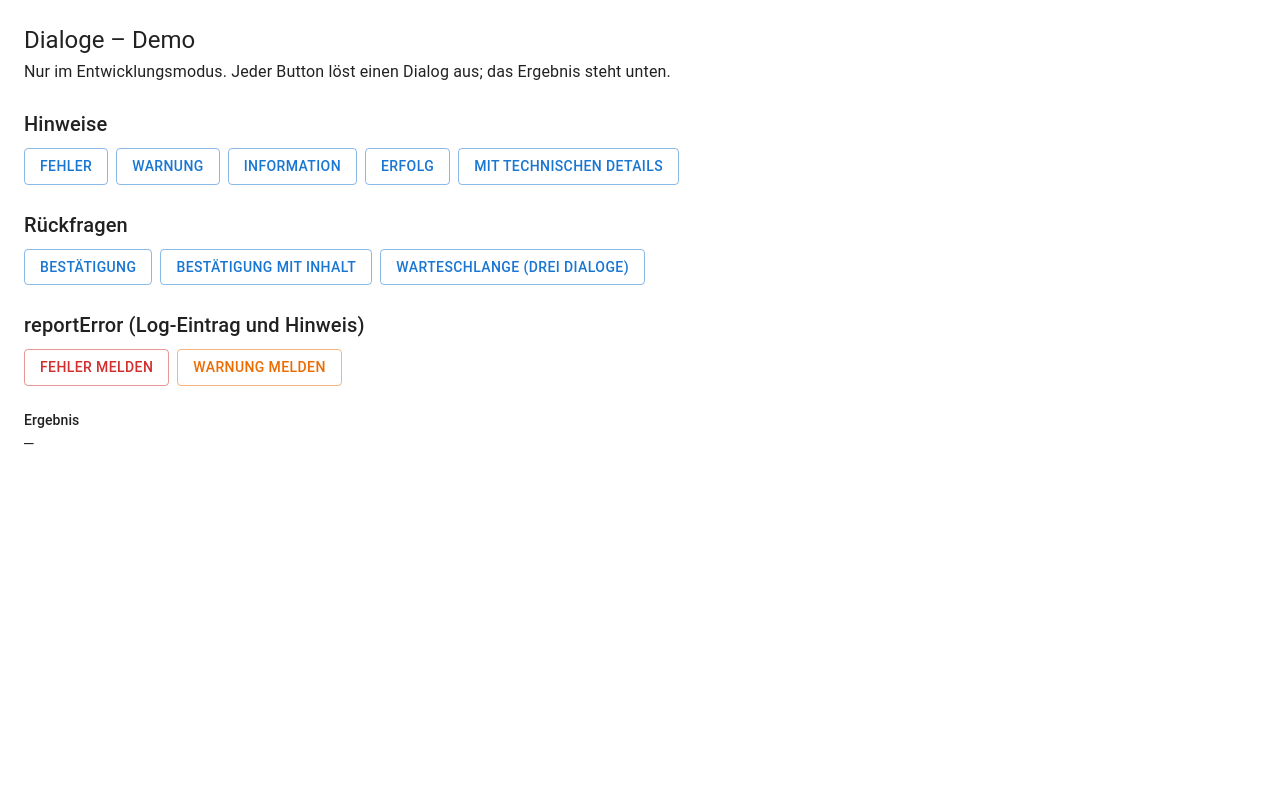
Test: DialogDemo › notes that the alert was closed
Step 1. Click the button with test id "app.dialog-demo-alert-info" → click(292, 166), box top-left (228, 148), bottom-right (357, 184)
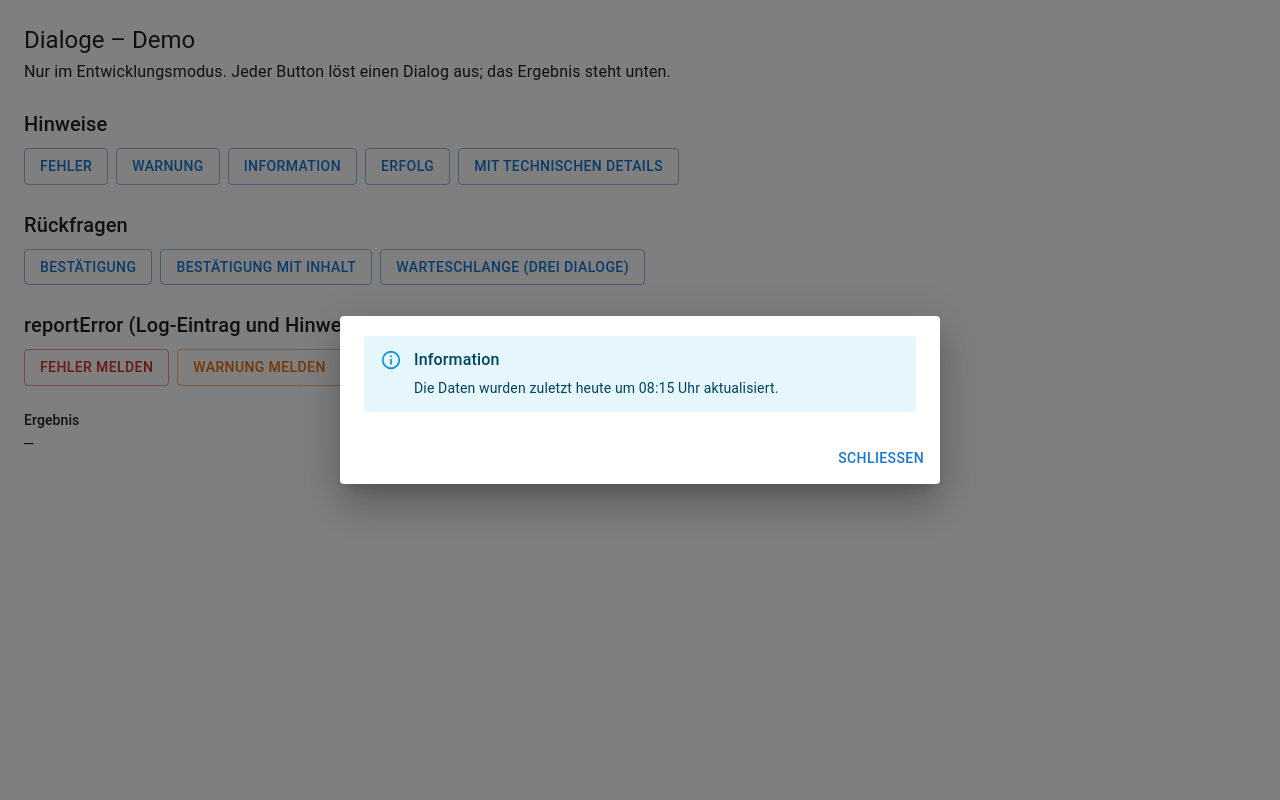
Step 2. Click the button with test id "core.modal-close" → click(881, 458), box top-left (830, 440), bottom-right (932, 476)
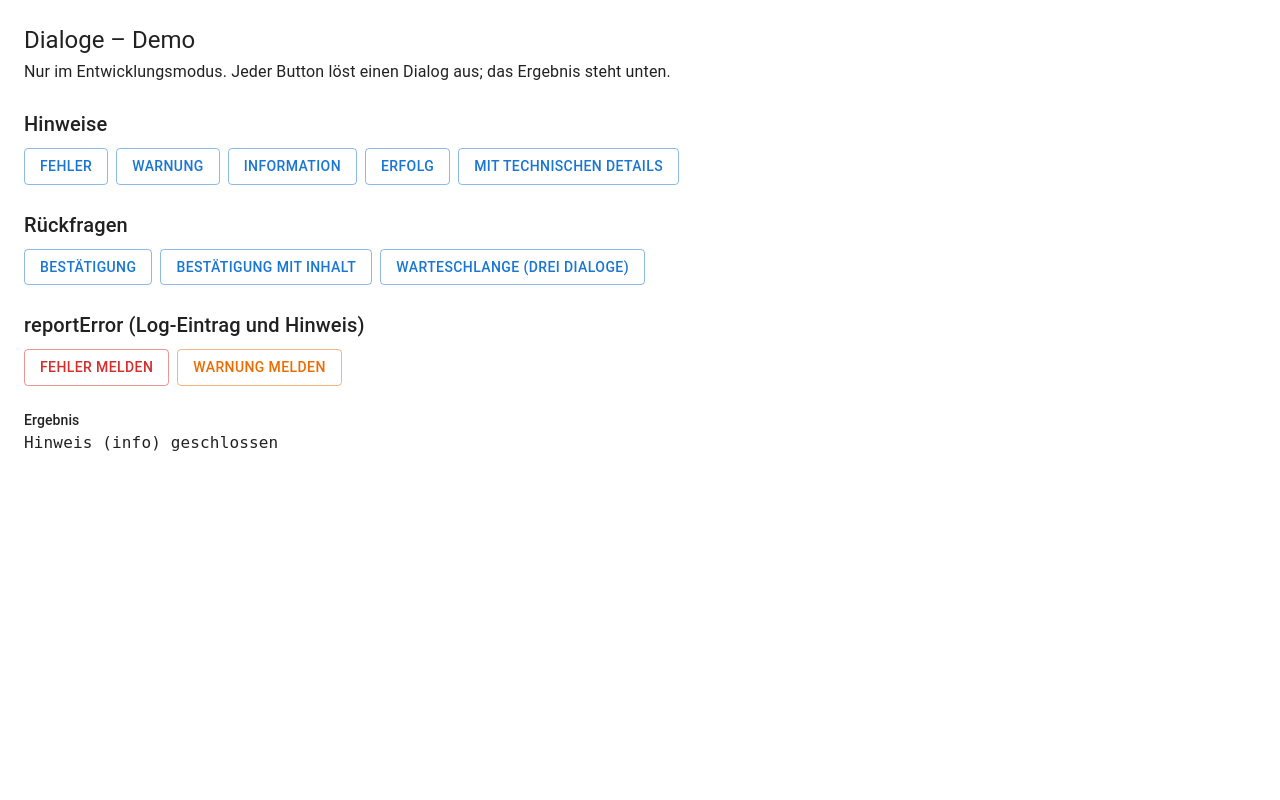
Now the text with test id "app.dialog-demo-result" shows "geschlossen", box top-left (24, 434), bottom-right (278, 452)
